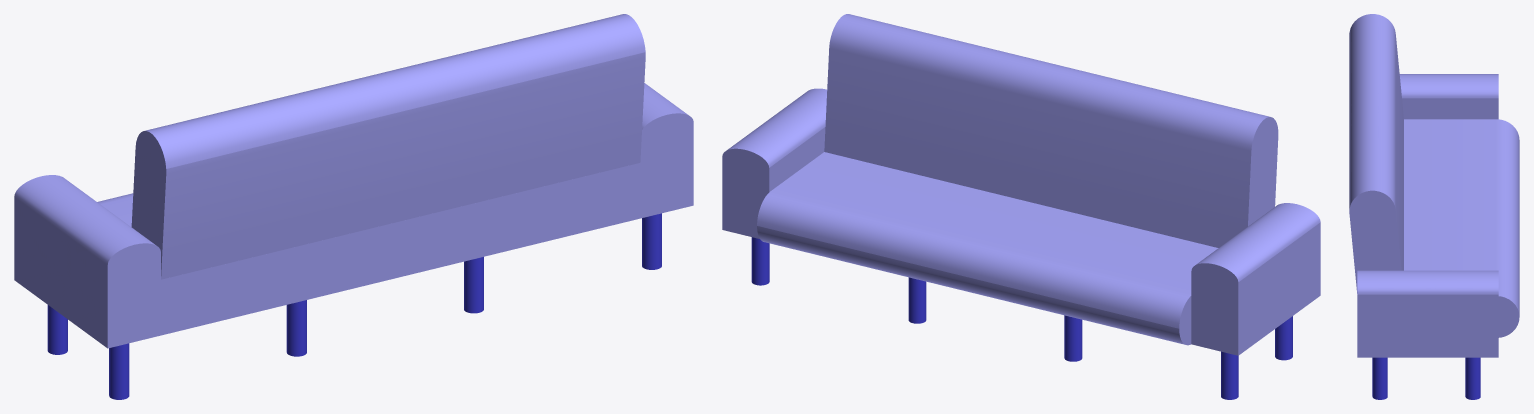
The model's file is soffa.fbx.
The picture shows the model from 3 angles, left to right: view 1: azimuth 30°, elevation 25°; view 2: azimuth 150°, elevation 25°; view 3: azimuth 270°, elevation 25°; orthographic projection. The views are drawn at different scales.
Visible parts, largest first — view 1: soffa; view 2: soffa; view 3: soffa.
Boxes of the visible parts, x1=… form: soffa: x1=14, y1=14, x2=693, y2=399; soffa: x1=722, y1=14, x2=1320, y2=399; soffa: x1=1349, y1=14, x2=1519, y2=399.
Bounding box in the file's own units: 213 × 90.37 × 71.02.
